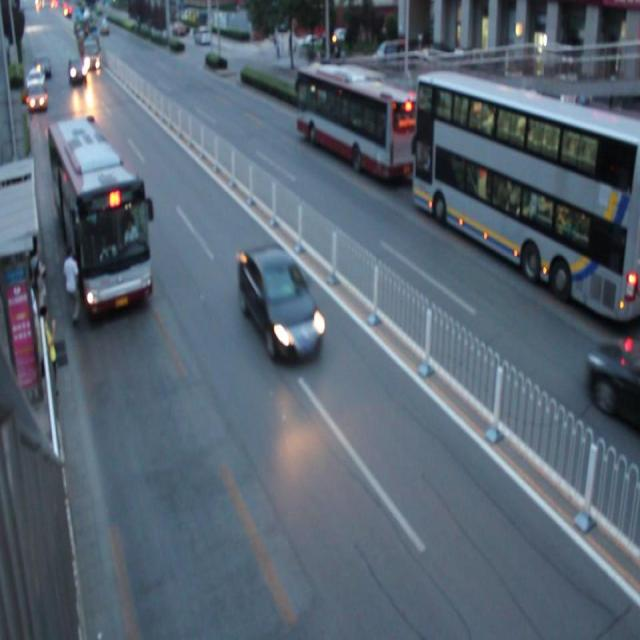car: (240, 243, 324, 361), (586, 336, 640, 426), (26, 83, 48, 110)
van: (414, 74, 640, 318), (48, 119, 153, 312), (297, 66, 418, 180)
